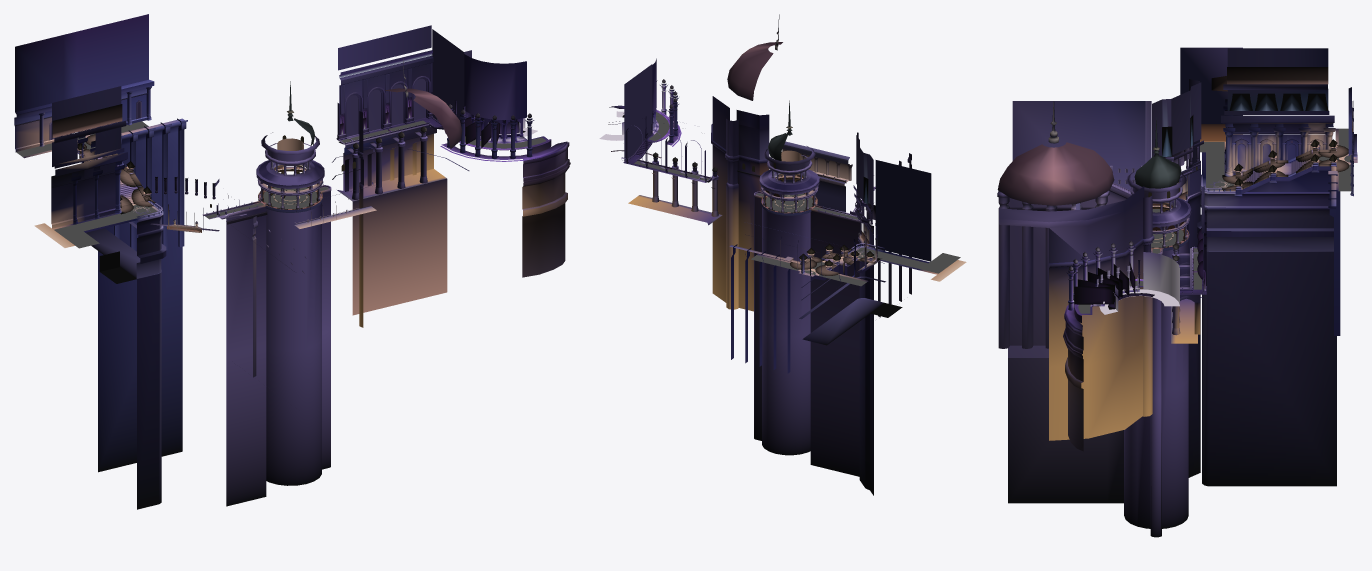
The model's file is 03Tower.gltf.
3 renders of one model, left to right at view 1: azimuth 30°, elevation 25°; view 2: azimuth 150°, elevation 25°; view 3: azimuth 270°, elevation 25°, orthographic. The views are drawn at different scales.
Visible parts, largest first — view 1: stg070_o13_Mesh_0008, stg070_o13_Mesh_0014, stg070_o13_Mesh_0004, stg070_o05_Mesh_0006, stg070_o09_Mesh_0047, stg070_k04_Mesh_0001, stg070_o09_Mesh_0044, stg070_o05_Mesh_0088, stg070_w04_Mesh_000.001, stg070_w04_Mesh_000, stg070_o05_Mesh_0048, stg070_o05_Mesh_0111; view 2: stg070_o13_Mesh_0008, stg070_o13_Mesh_0014, stg070_o13_Mesh_0004, stg070_o05_Mesh_0006, stg070_o09_Mesh_0047, stg070_w04_Mesh_000.001, stg070_o09_Mesh_0044, stg070_o05_Mesh_0088, stg070_w04_Mesh_000, stg070_k04_Mesh_0001, stg070_o05_Mesh_0111; view 3: stg070_o13_Mesh_0008, stg070_o13_Mesh_0014, stg070_o13_Mesh_0004, stg070_o05_Mesh_0006, stg070_k04_Mesh_0001, stg070_o09_Mesh_0047, stg070_o05_Mesh_0088, stg070_p05_Mesh_0004, stg070_o09_Mesh_0044, stg070_k04_Mesh_0004, stg070_w04_Mesh_000, stg070_w04_Mesh_000.001 (+5 smaller).
Part boxes in pixels (x1=…): stg070_o13_Mesh_0008: x1=15, y1=54, x2=570, y2=509; stg070_o13_Mesh_0014: x1=15, y1=14, x2=567, y2=234; stg070_o13_Mesh_0004: x1=14, y1=53, x2=569, y2=273; stg070_o05_Mesh_0006: x1=34, y1=50, x2=570, y2=283; stg070_o09_Mesh_0047: x1=16, y1=50, x2=534, y2=258; stg070_k04_Mesh_0001: x1=52, y1=104, x2=525, y2=214; stg070_o09_Mesh_0044: x1=15, y1=76, x2=537, y2=231; stg070_o05_Mesh_0088: x1=39, y1=89, x2=531, y2=377; stg070_w04_Mesh_000.001: x1=16, y1=121, x2=545, y2=218; stg070_w04_Mesh_000: x1=54, y1=120, x2=426, y2=248; stg070_o05_Mesh_0048: x1=15, y1=64, x2=564, y2=209; stg070_o05_Mesh_0111: x1=23, y1=118, x2=546, y2=232; stg070_o13_Mesh_0008: x1=626, y1=58, x2=877, y2=495; stg070_o13_Mesh_0014: x1=622, y1=64, x2=931, y2=311; stg070_o13_Mesh_0004: x1=609, y1=87, x2=911, y2=373; stg070_o05_Mesh_0006: x1=602, y1=14, x2=966, y2=345; stg070_o09_Mesh_0047: x1=626, y1=80, x2=911, y2=319; stg070_w04_Mesh_000.001: x1=648, y1=112, x2=866, y2=286; stg070_o09_Mesh_0044: x1=599, y1=31, x2=876, y2=272; stg070_o05_Mesh_0088: x1=662, y1=91, x2=911, y2=317; stg070_w04_Mesh_000: x1=634, y1=161, x2=960, y2=273; stg070_k04_Mesh_0001: x1=622, y1=115, x2=880, y2=275; stg070_o05_Mesh_0111: x1=624, y1=111, x2=938, y2=281; stg070_o13_Mesh_0008: x1=1008, y1=47, x2=1353, y2=537; stg070_o13_Mesh_0014: x1=998, y1=48, x2=1329, y2=440; stg070_o13_Mesh_0004: x1=997, y1=79, x2=1357, y2=388; stg070_o05_Mesh_0006: x1=997, y1=101, x2=1357, y2=354; stg070_k04_Mesh_0001: x1=1108, y1=67, x2=1349, y2=309; stg070_o09_Mesh_0047: x1=999, y1=88, x2=1357, y2=303; stg070_o05_Mesh_0088: x1=998, y1=111, x2=1353, y2=348; stg070_p05_Mesh_0004: x1=1200, y1=124, x2=1333, y2=251; stg070_o09_Mesh_0044: x1=1048, y1=121, x2=1356, y2=314; stg070_k04_Mesh_0004: x1=1074, y1=228, x2=1203, y2=304; stg070_w04_Mesh_000: x1=1193, y1=142, x2=1234, y2=289; stg070_w04_Mesh_000.001: x1=1078, y1=128, x2=1351, y2=313.
Bounding box in the file's own units: 319 × 318 × 214.
